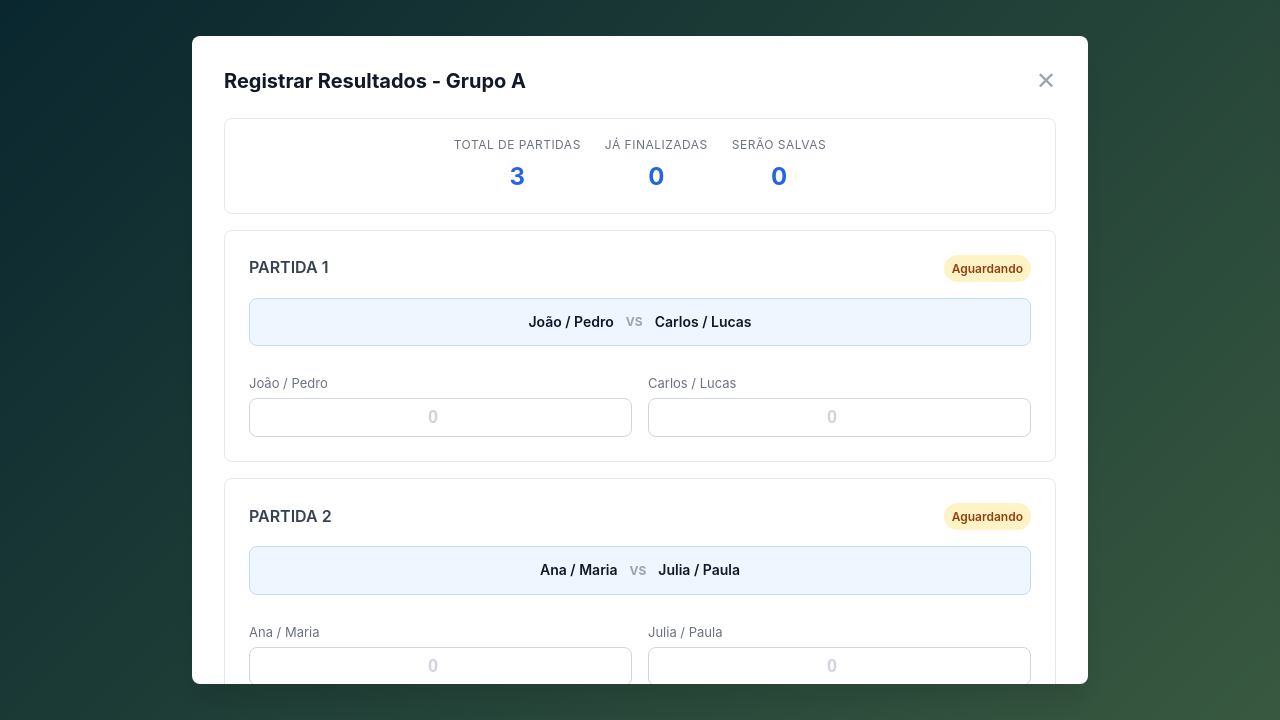
Scenario: ModalLancamentoResultadosLoteDuplaFixa › entrada de dados › deve limpar erro ao digitar
This screenshot has width=1280, height=720.
# Preencher parcialmente e submeter
Type "6" into the 1st number field with placeholder "0". click: (440, 418)
box: [249,398,632,437]
(page scrolled)
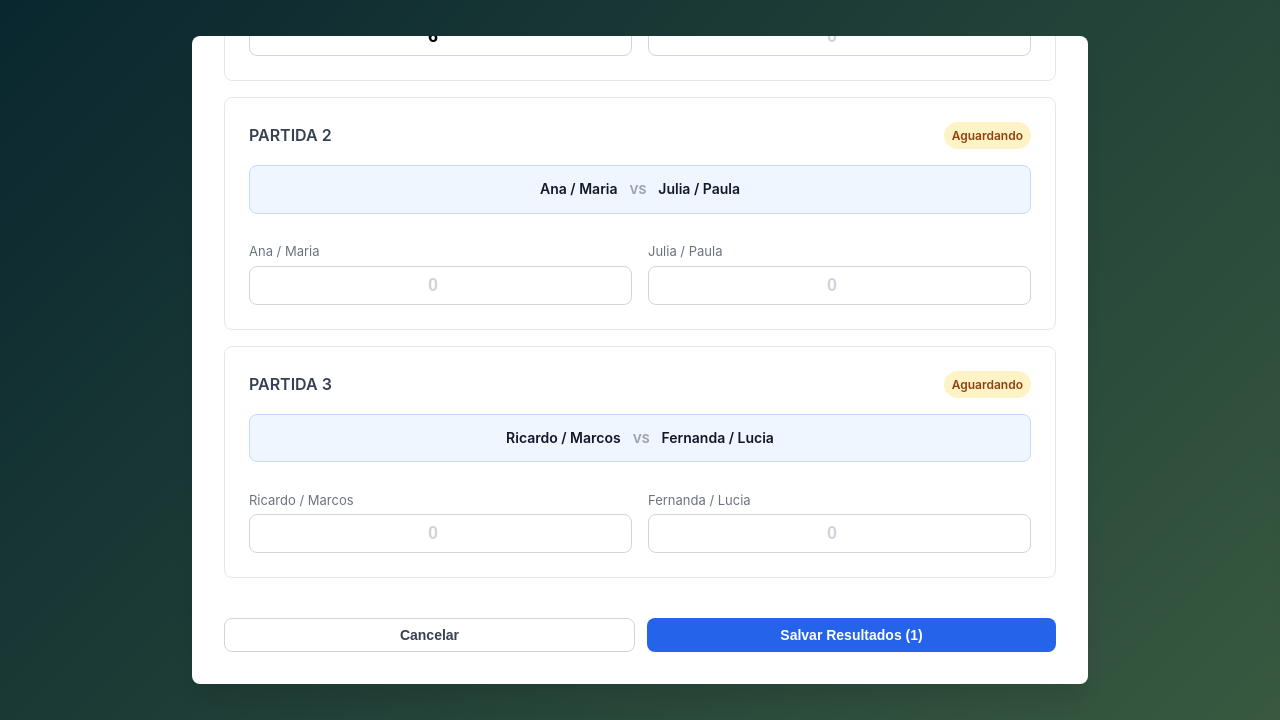
Click the button "Salvar Resultados (1)". click: (852, 635)
box: [647,618,1056,652]
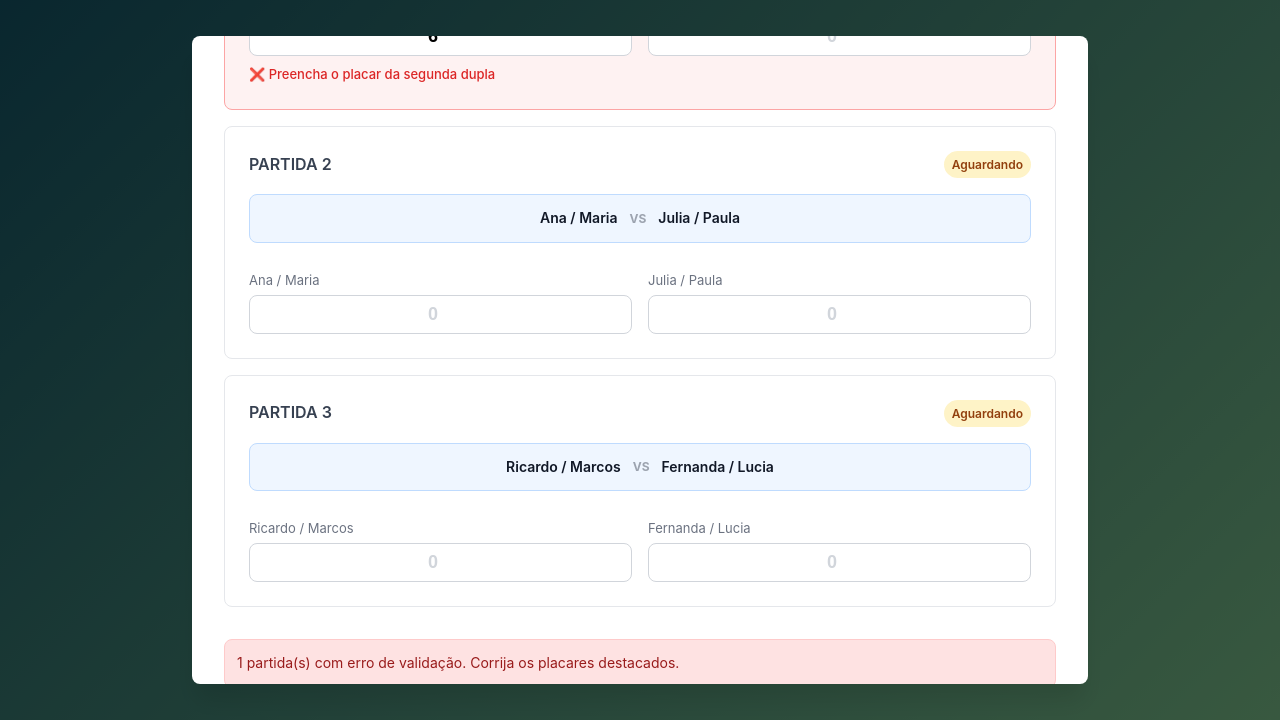
Expected: the text "❌ Preencha o placar da segunda dupla" is shown, [249,66,495,82]
Type "4" into the 1st number field with placeholder "0". click: (840, 37)
box: [648,17,1031,56]
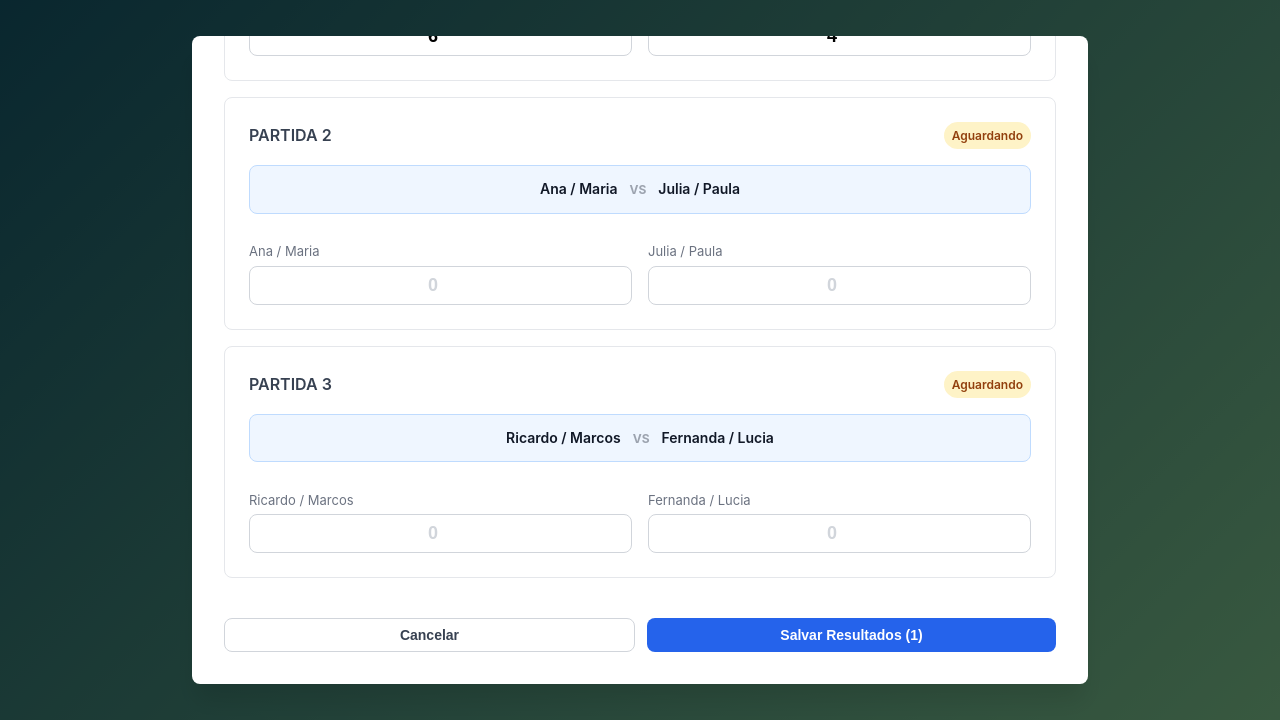
Expected: the text "Preencha o placar da segunda dupla" is gone
